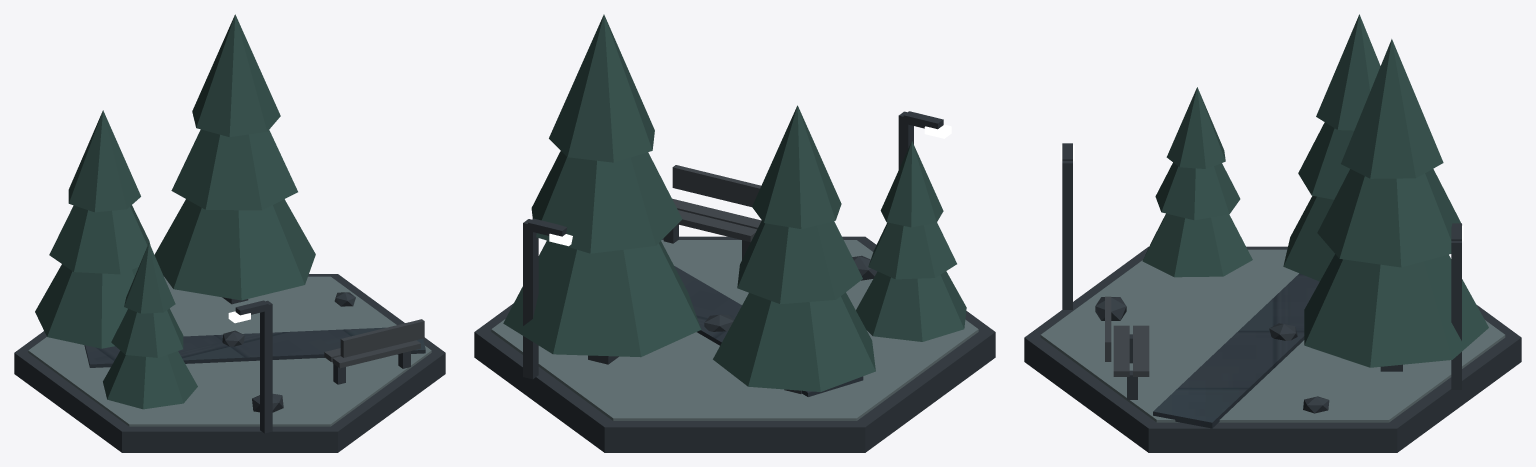
The model's file is synthwave-grove.glb.
The picture shows the model from 3 angles, left to right: view 1: azimuth 30°, elevation 25°; view 2: azimuth 150°, elevation 25°; view 3: azimuth 270°, elevation 25°; orthographic projection. The views are drawn at different scales.
Parts seen in each view (by area): view 1: Grove_Foliage, Pad, Grove_Frame, Path, Grove_Door; view 2: Grove_Foliage, Pad, Grove_Frame, Grove_Door, Path; view 3: Grove_Foliage, Pad, Grove_Frame, Path, Grove_Door.
Part boxes in pixels (<box>): Grove_Foliage: <box>35,14,315,409</box>; Pad: <box>28,276,431,426</box>; Grove_Frame: <box>14,274,445,452</box>; Path: <box>84,327,425,367</box>; Grove_Door: <box>324,319,424,368</box>; Grove_Foliage: <box>503,14,966,391</box>; Pad: <box>491,240,978,420</box>; Grove_Frame: <box>474,111,995,452</box>; Grove_Door: <box>672,165,761,241</box>; Path: <box>674,266,863,396</box>; Grove_Foliage: <box>1142,14,1488,367</box>; Pad: <box>1040,249,1505,422</box>; Grove_Frame: <box>1024,143,1521,452</box>; Path: <box>1153,273,1319,428</box>; Grove_Door: <box>1105,296,1149,376</box>.
Bounding box in the file's own units: 0.8015 × 0.7256 × 0.92.
Materials: 6 (1 with a texture image).
